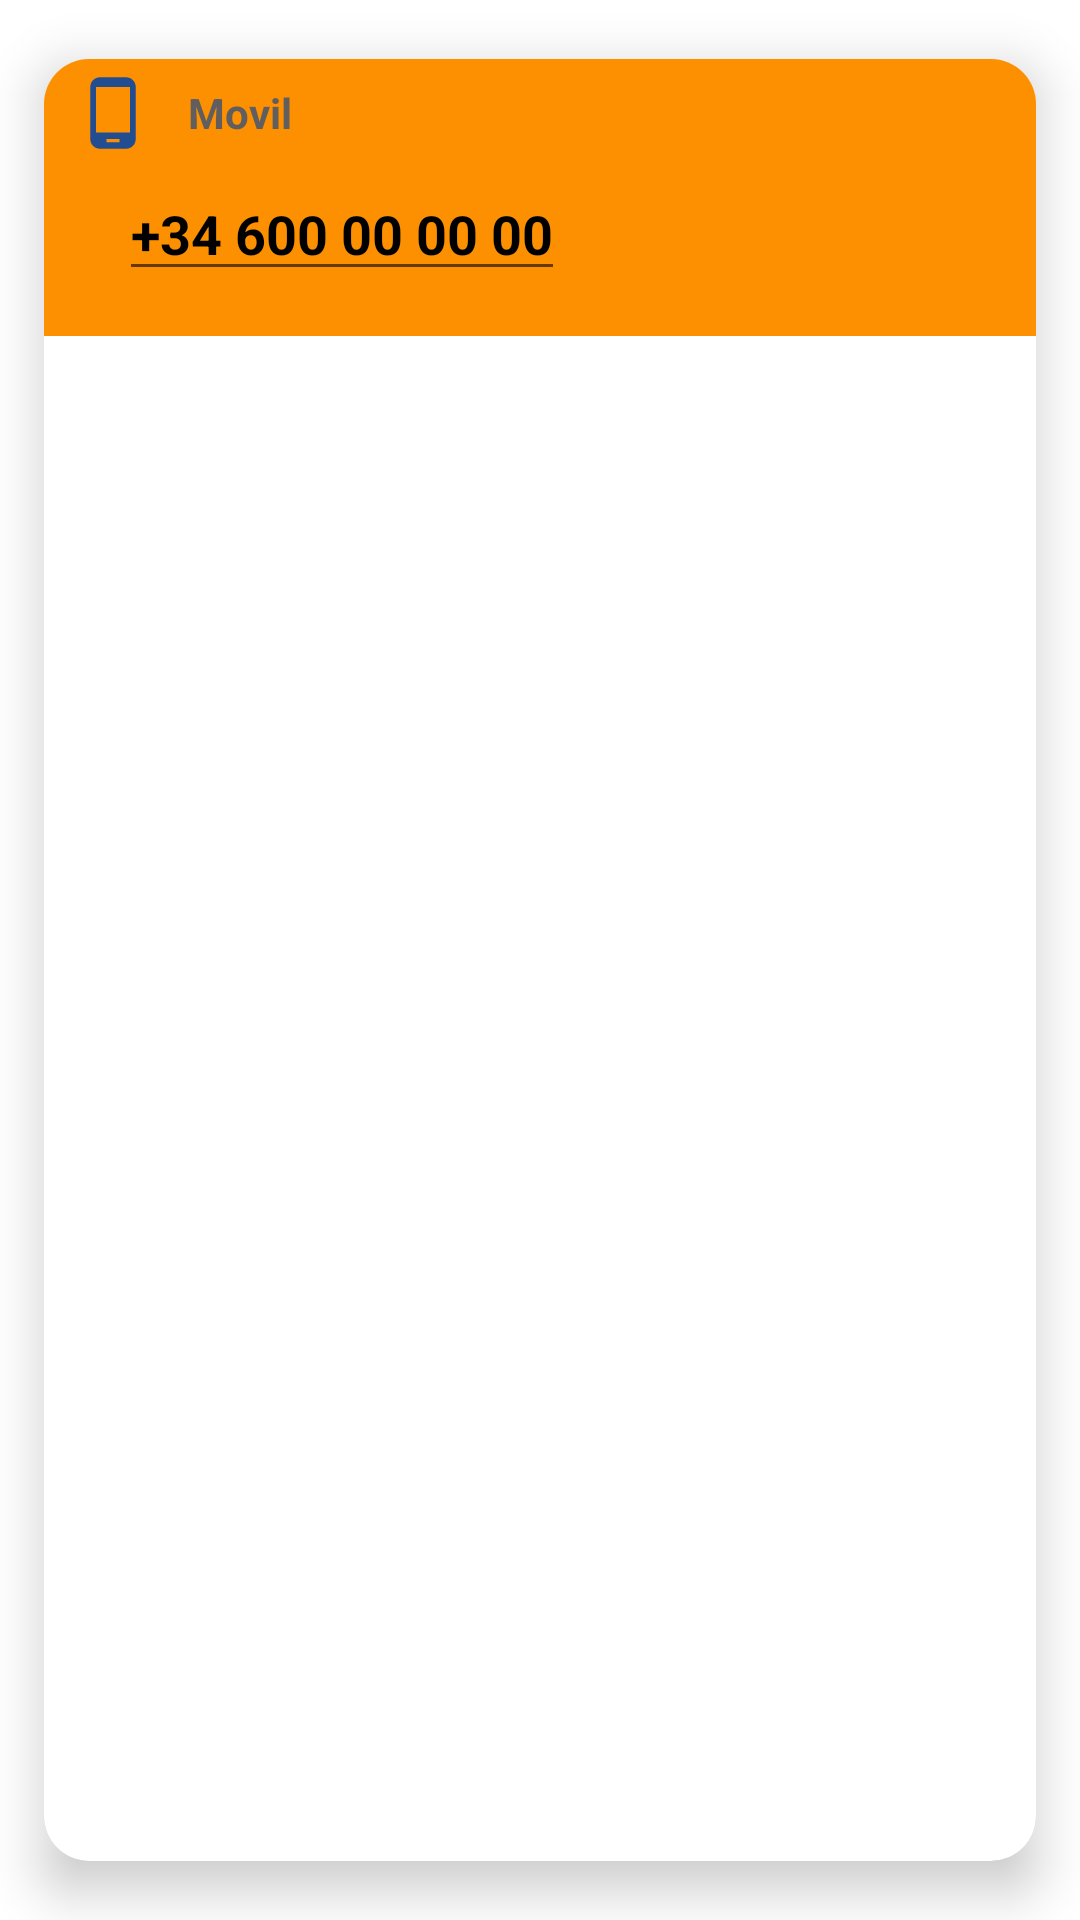

Locate icon controls on the screen. Image size 1080 × 1920, boxes as (x1, y1, x2, y2).
telf: (90, 77, 136, 149)
